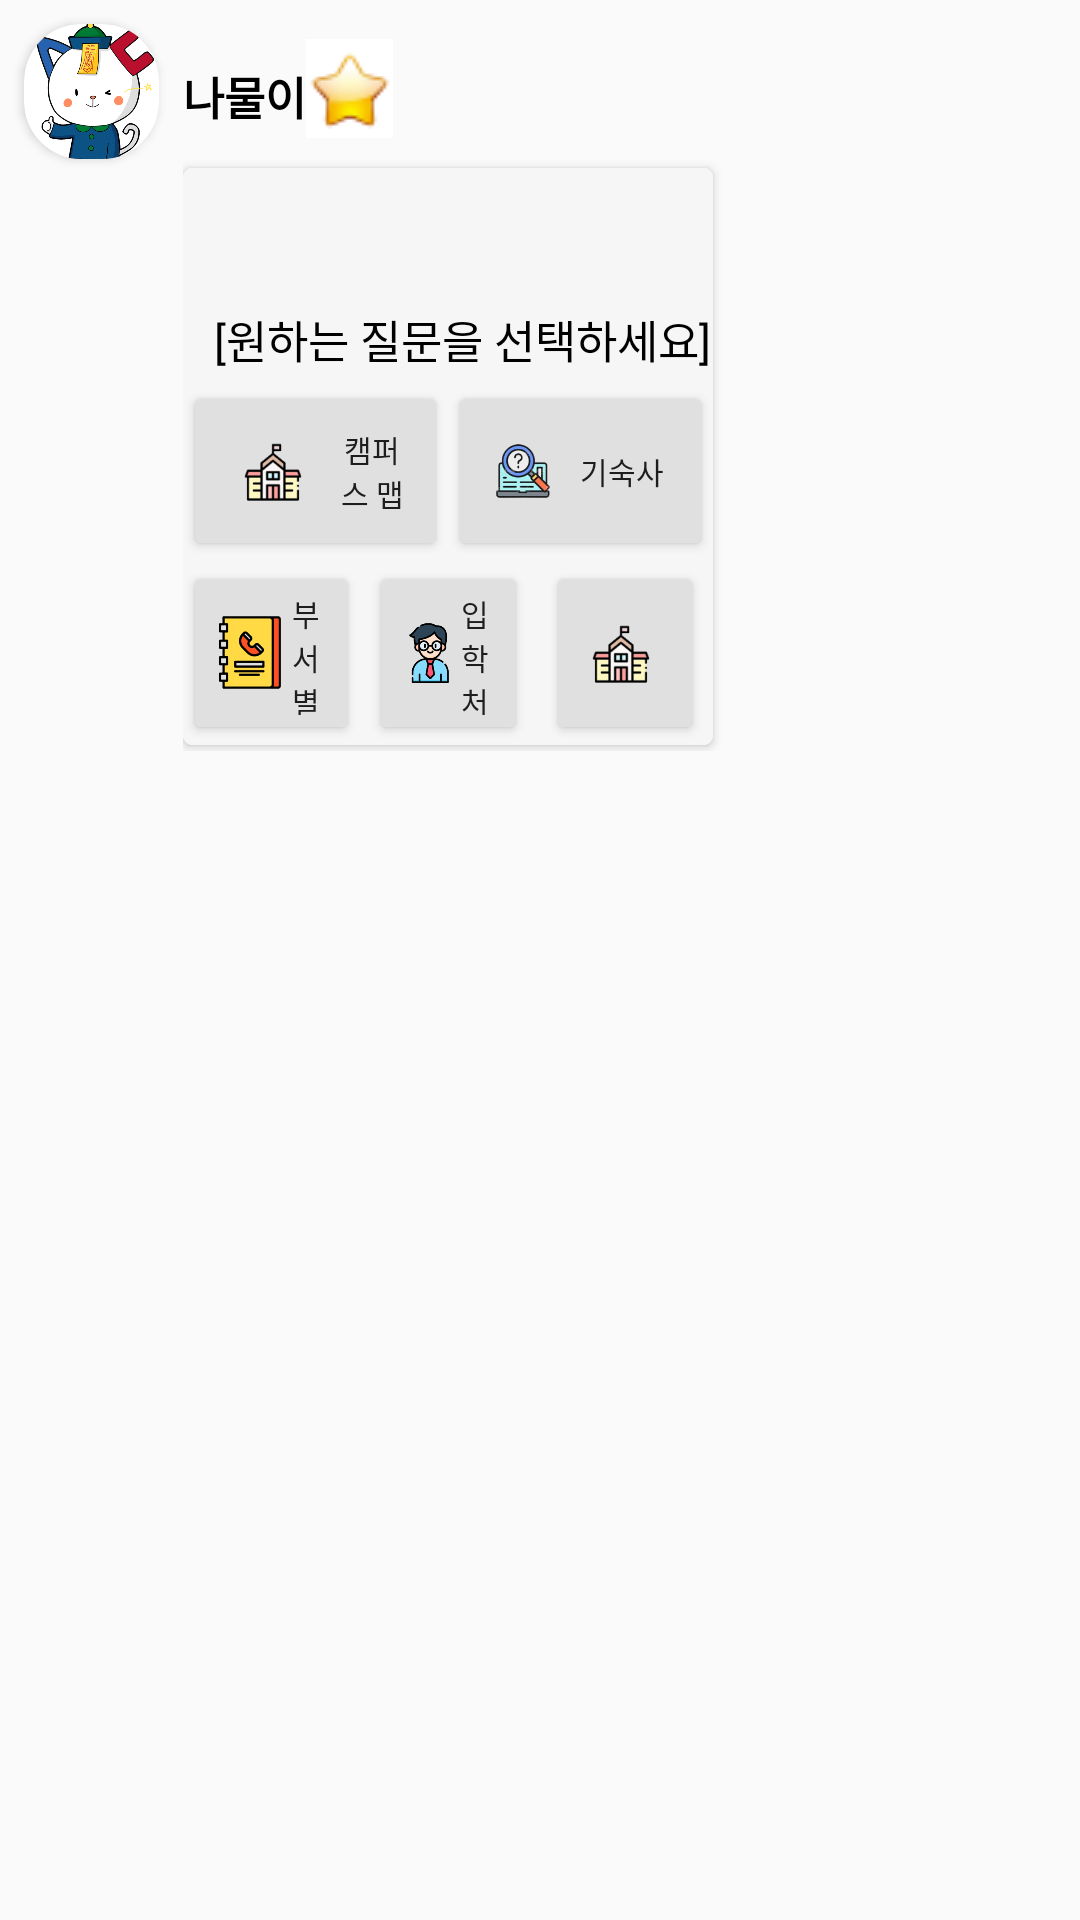

Named icons in this screenshot (1080×1920) and their centers, point (x, y):
staron: point (350, 90)
